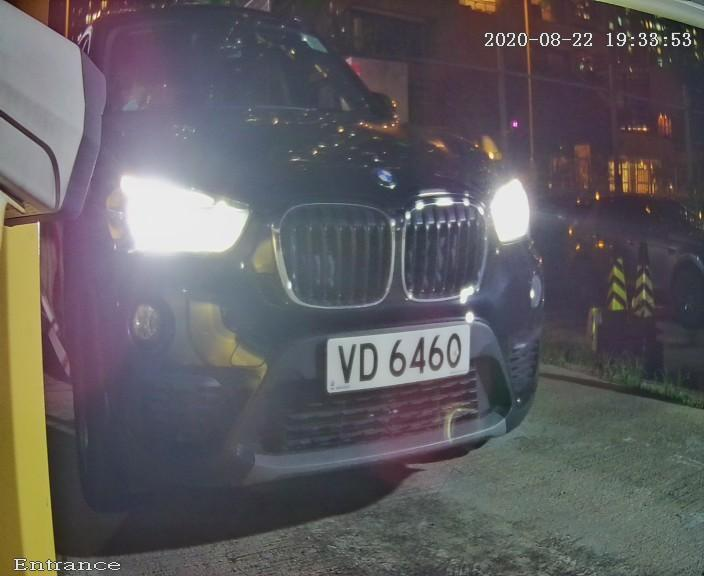Car: (7, 8, 576, 523)
License Plate: (295, 299, 500, 414)
